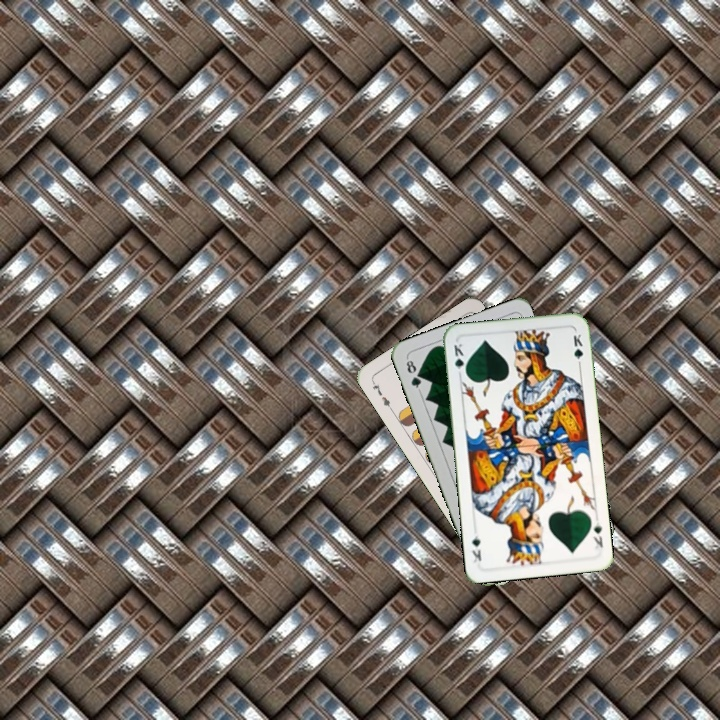E7: (368, 377, 395, 414)
G8: (402, 354, 424, 394)
GK: (450, 339, 469, 378), (588, 517, 605, 551)
